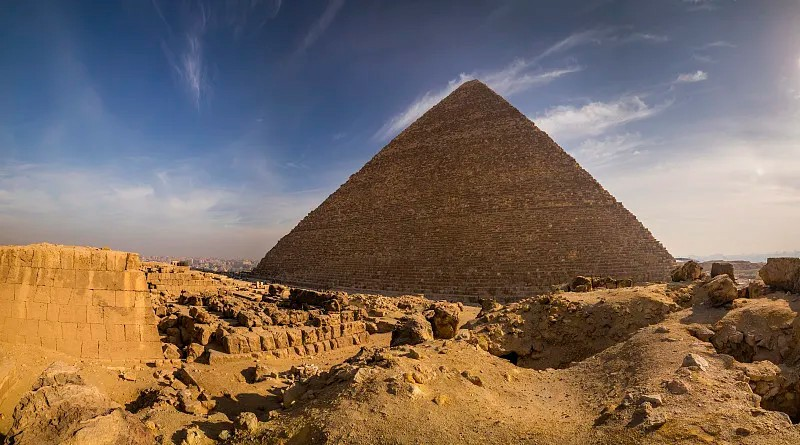Pyramid: (245, 79, 678, 297)
